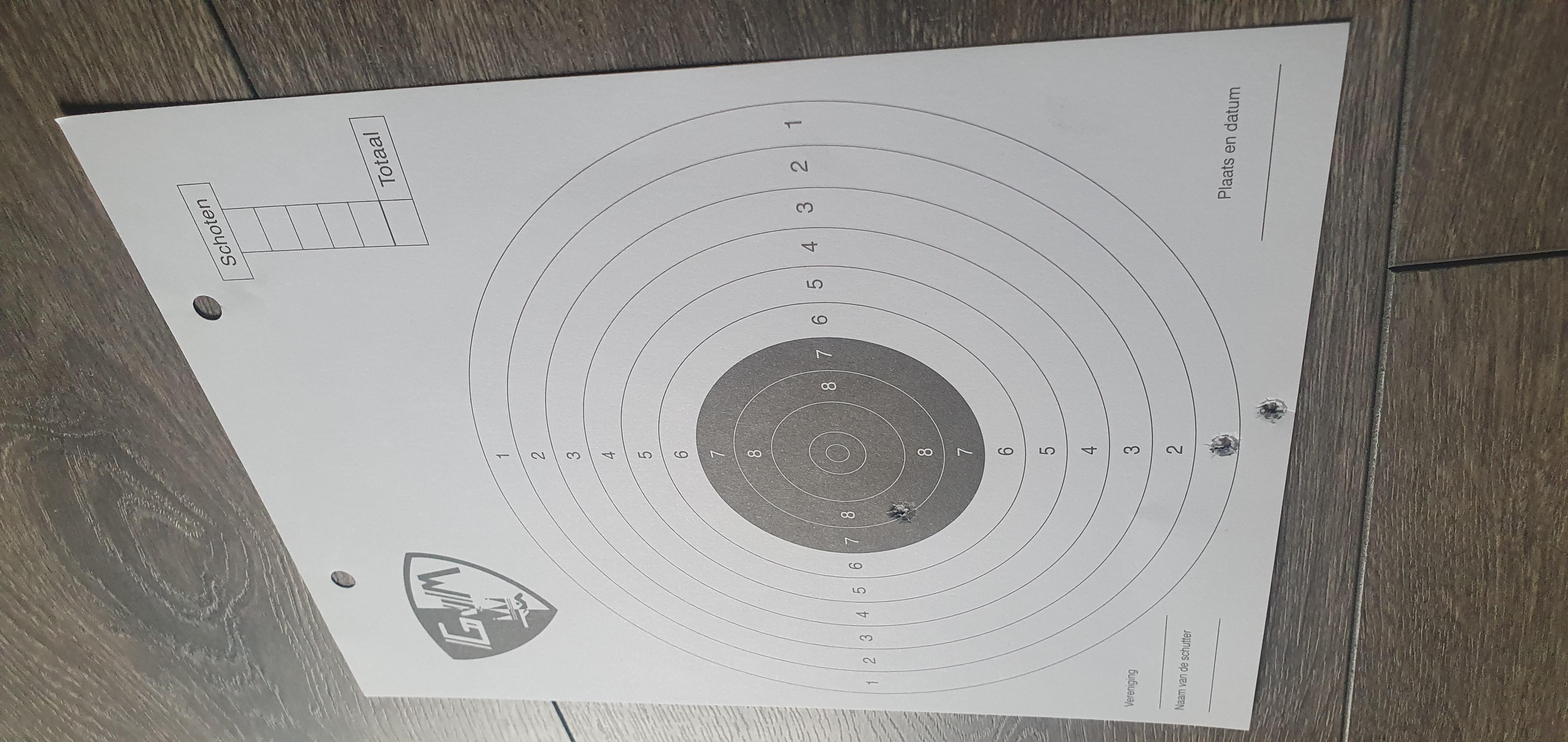hole: (275, 317, 315, 346), (327, 282, 364, 313), (649, 218, 682, 243)
